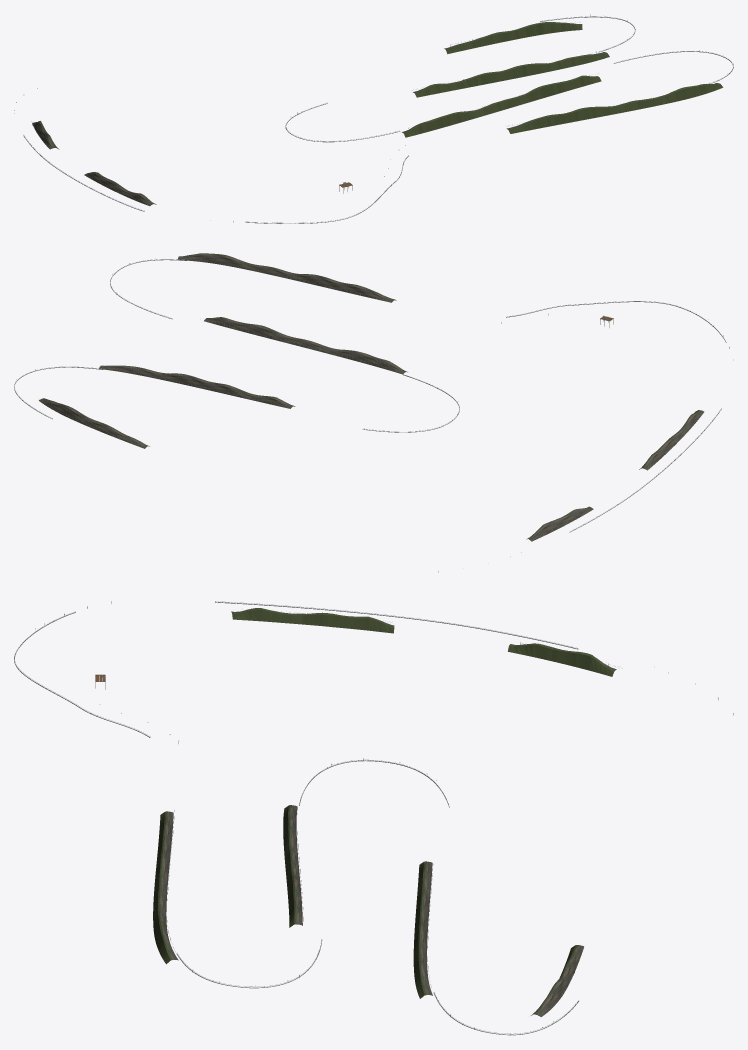
The model's file is seongsamjae-roadscape.glb.
3 views of the same model, one above another, from view 1: azimuth 30°, elevation 25°; view 2: azimuth 150°, elevation 25°; view 3: azimuth 270°, elevation 25° (orthographic). The views are drawn at different scales.
Visible parts, largest first — view 1: Roadscape_seongsamjae_7_0_tier1, Roadscape_seongsamjae_6_3_tier1, Roadscape_seongsamjae_5_7_tier1, Roadscape_seongsamjae_3_5_tier1, Roadscape_seongsamjae_5_5_tier1, Roadscape_seongsamjae_6_5_tier1, Roadscape_seongsamjae_4_7_tier1, Roadscape_seongsamjae_5_3_tier1, Roadscape_seongsamjae_7_7_tier1, Roadscape_seongsamjae_6_7_tier1, Roadscape_seongsamjae_4_5_tier1, Roadscape_seongsamjae_8_7_tier1 (+1 smaller); view 2: no part large enough to name; view 3: Roadscape_seongsamjae_-4_0_tier1, Roadscape_seongsamjae_-5_4_tier1, Roadscape_seongsamjae_-5_5_tier1.
Boxes of the visible parts, x1=… form: Roadscape_seongsamjae_7_0_tier1: x1=485, y1=25, x2=533, y2=45; Roadscape_seongsamjae_6_3_tier1: x1=501, y1=63, x2=544, y2=80; Roadscape_seongsamjae_5_7_tier1: x1=556, y1=106, x2=600, y2=124; Roadscape_seongsamjae_3_5_tier1: x1=428, y1=111, x2=471, y2=130; Roadscape_seongsamjae_5_5_tier1: x1=509, y1=84, x2=551, y2=107; Roadscape_seongsamjae_6_5_tier1: x1=549, y1=75, x2=591, y2=95; Roadscape_seongsamjae_4_7_tier1: x1=514, y1=114, x2=558, y2=132; Roadscape_seongsamjae_5_3_tier1: x1=459, y1=71, x2=502, y2=88; Roadscape_seongsamjae_7_7_tier1: x1=640, y1=88, x2=683, y2=108; Roadscape_seongsamjae_6_7_tier1: x1=598, y1=100, x2=641, y2=116; Roadscape_seongsamjae_4_5_tier1: x1=469, y1=99, x2=511, y2=119; Roadscape_seongsamjae_8_7_tier1: x1=681, y1=84, x2=720, y2=99; Roadscape_seongsamjae_-4_0_tier1: x1=546, y1=646, x2=611, y2=675; Roadscape_seongsamjae_-5_4_tier1: x1=297, y1=606, x2=358, y2=629; Roadscape_seongsamjae_-5_5_tier1: x1=232, y1=602, x2=299, y2=623.
Size of the model in its own units: 1414 by 154 by 1104.
